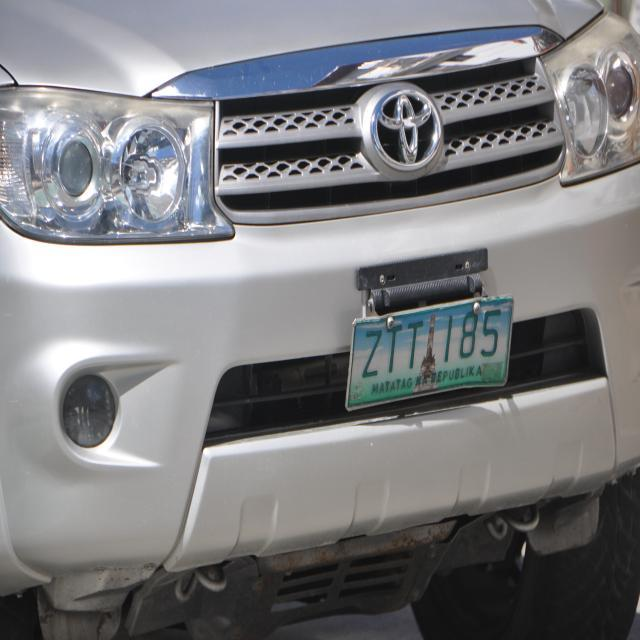LicensePlate: (342, 285, 525, 402)
